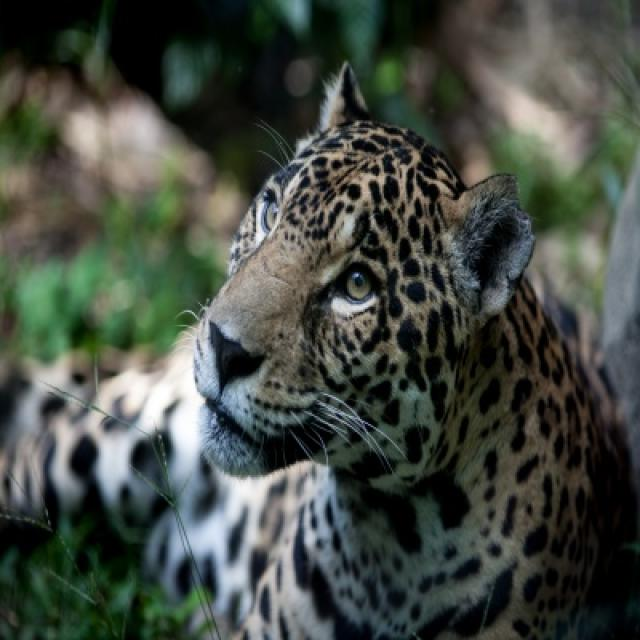Jaguar: (192, 64, 635, 638)
